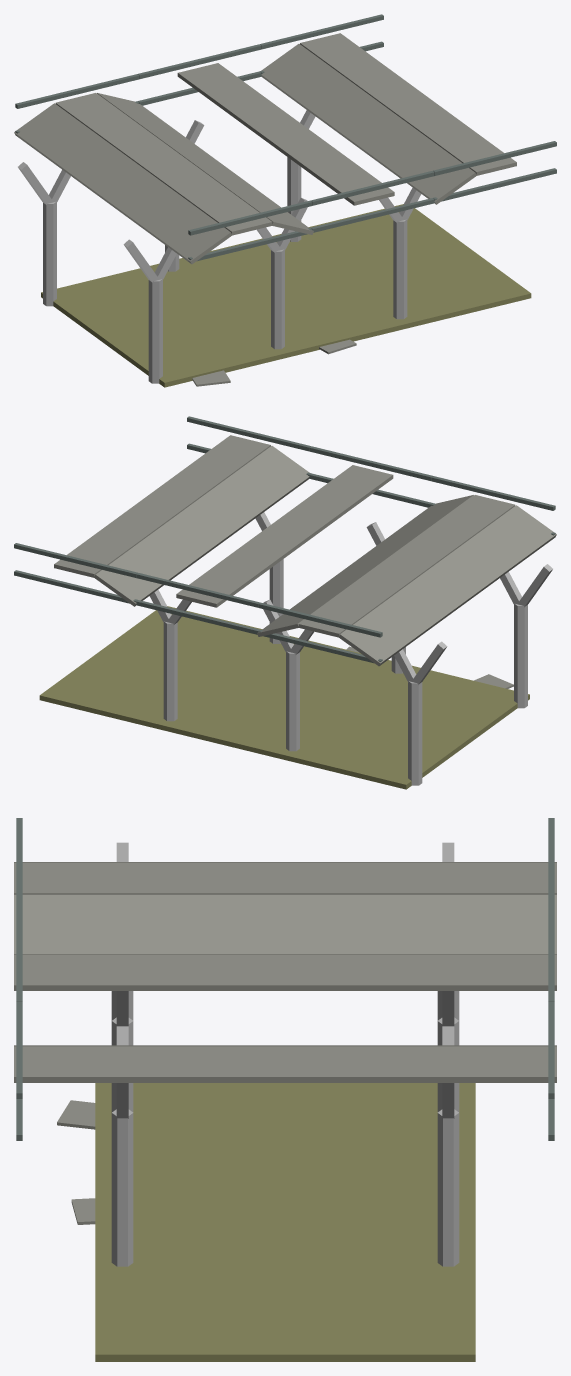
File: SM_MarquesinaBus_v1_Chapas_e0_Sano_LOD1.fbx
3 renders of one model, top to bottom at view 1: azimuth 30°, elevation 25°; view 2: azimuth 150°, elevation 25°; view 3: azimuth 270°, elevation 25°, orthographic. The views are drawn at different scales.
Visible parts, largest first — view 1: SM_marquesina_bus_v4_LOD1; view 2: SM_marquesina_bus_v4_LOD1; view 3: SM_marquesina_bus_v4_LOD1.
Boxes of the visible parts, <box> form: SM_marquesina_bus_v4_LOD1: <box>14,14,556,387</box>; SM_marquesina_bus_v4_LOD1: <box>14,416,556,789</box>; SM_marquesina_bus_v4_LOD1: <box>14,818,556,1361</box>.
Size of the model in its own units: 12.99 by 5.46 by 10.
